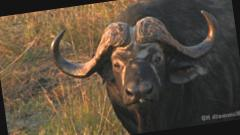Buffalo: (11, 0, 237, 131)
